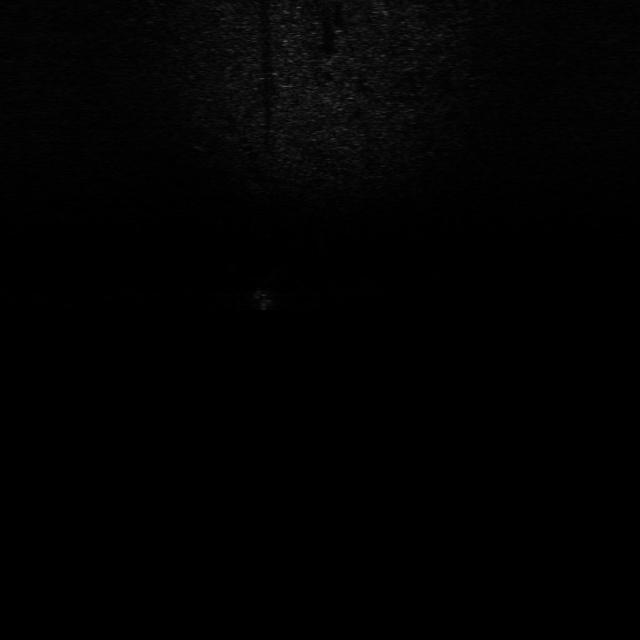human body: (248, 268, 284, 314)
